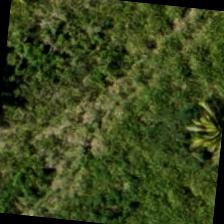Kelapa_Sawit: (165, 92, 223, 189)
